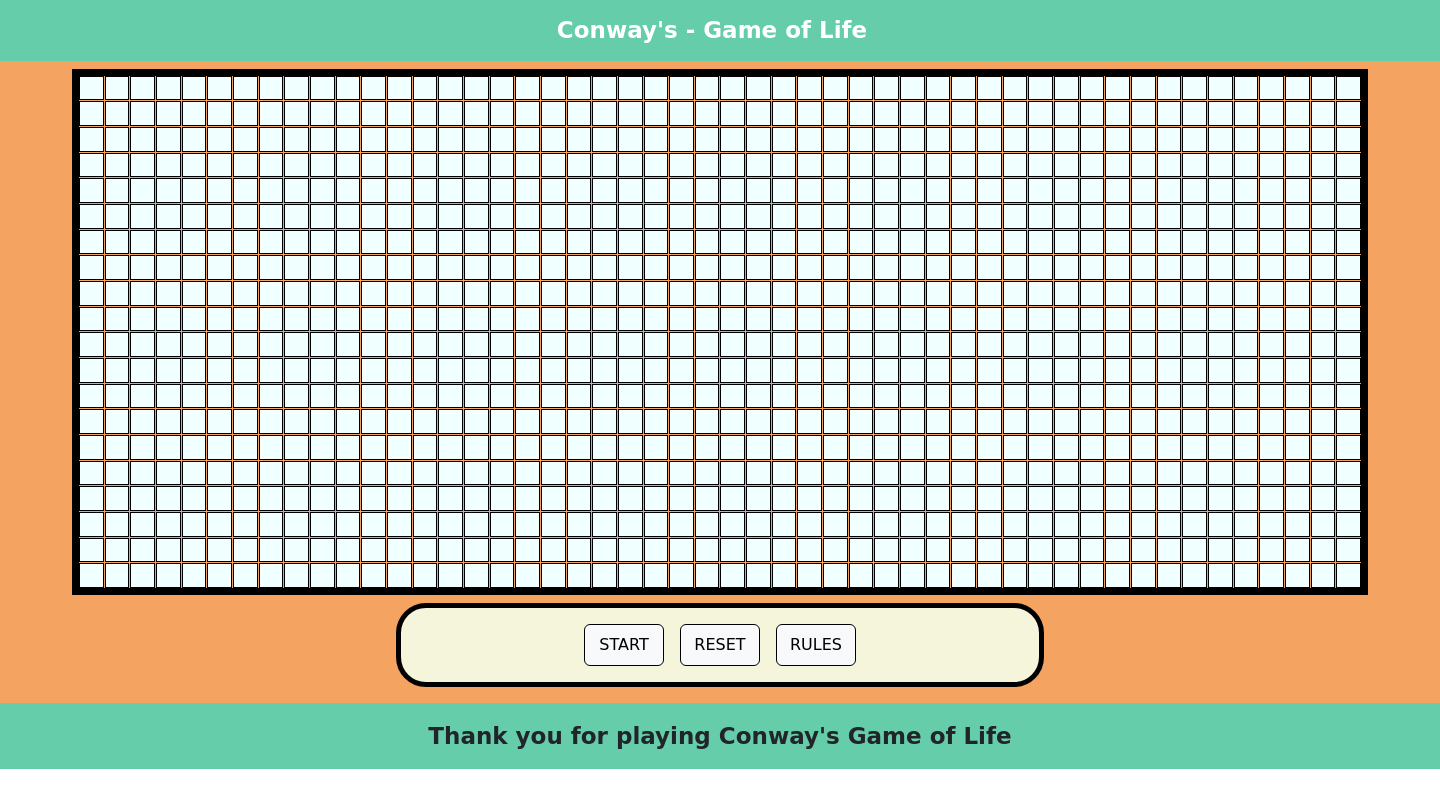
Test: GridFormat component › clicks START button and changes the playing state
The image size is (1440, 810).
Click the button "START" at (624, 645), box [584,624,664,666]
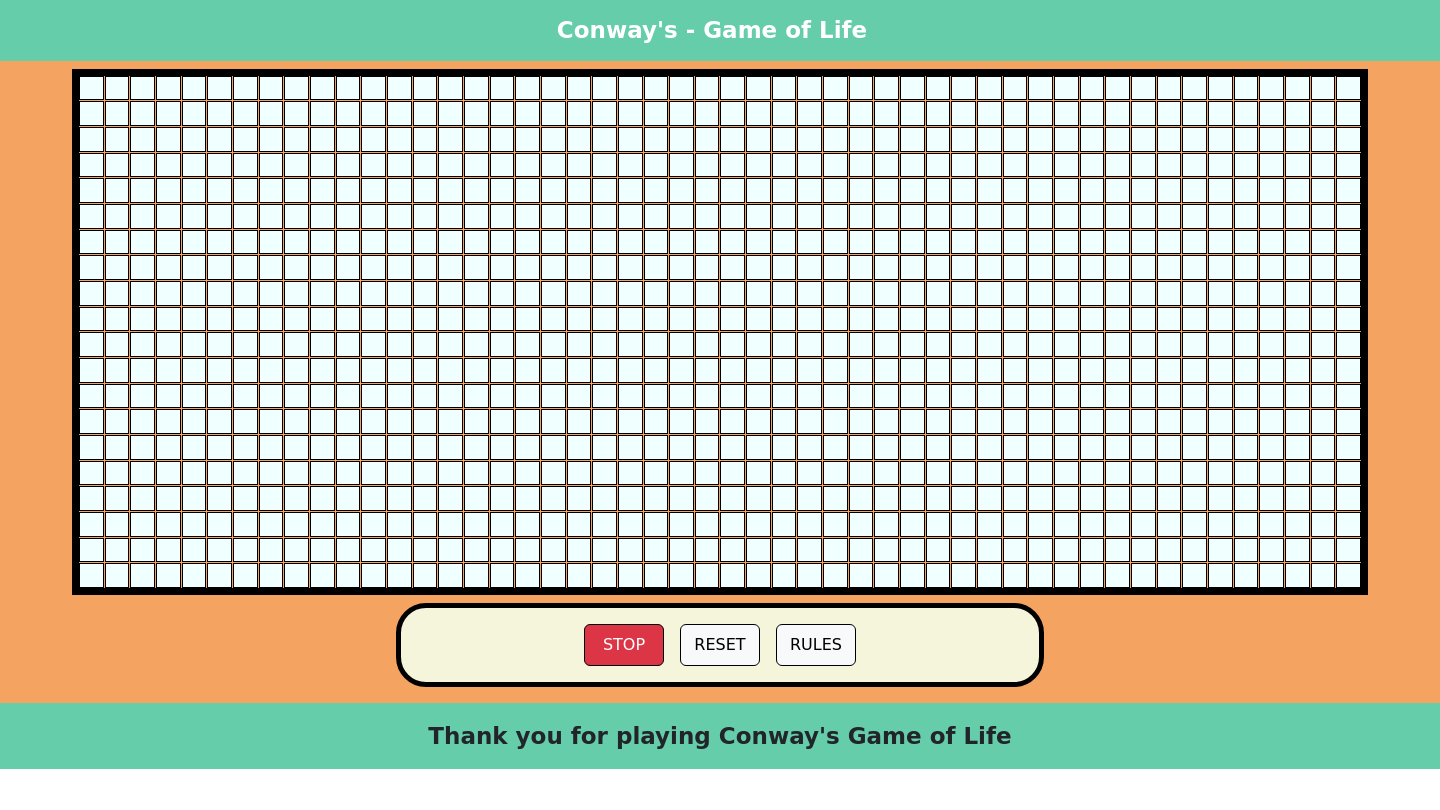
Result: the button "STOP" is shown at [584,624,664,666]
